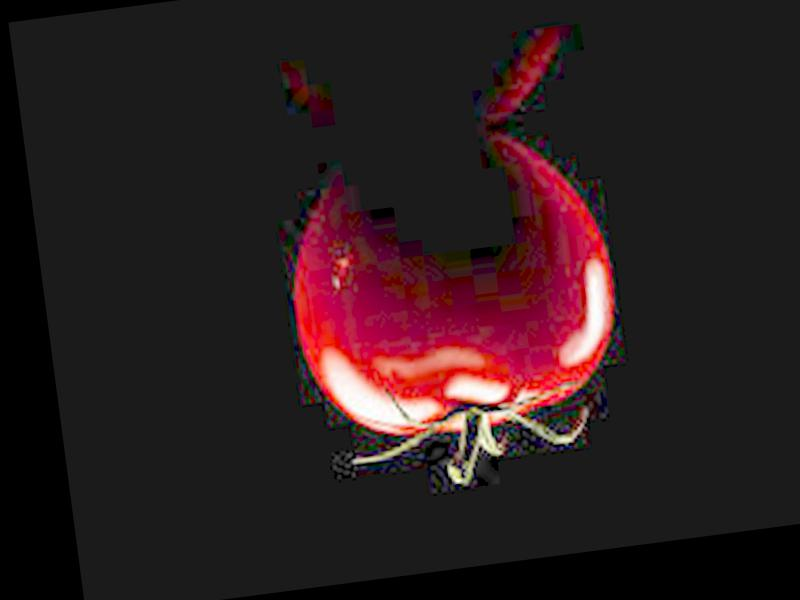Tomato: (276, 130, 628, 458)
